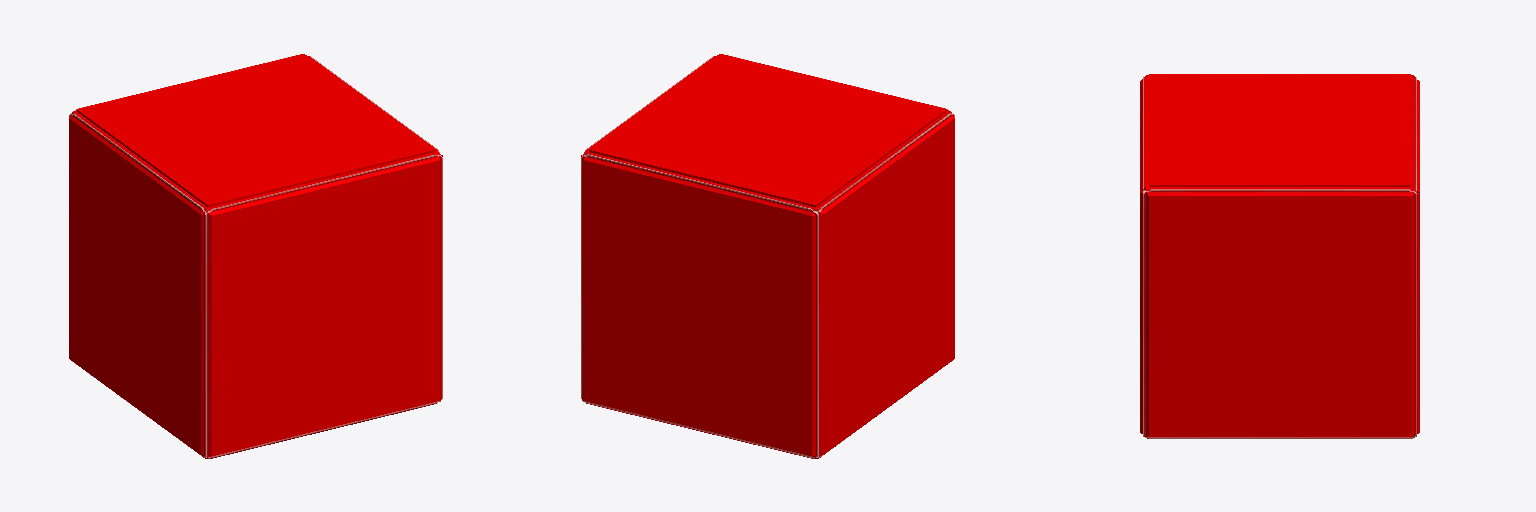
3 renders of one model, left to right at view 1: azimuth 30°, elevation 25°; view 2: azimuth 150°, elevation 25°; view 3: azimuth 270°, elevation 25°, orthographic.
Parts seen in each view (by area): view 1: 000_Box; view 2: 000_Box; view 3: 000_Box.
Part boxes in pixels (bbox=[...]): 000_Box: bbox=[69, 54, 442, 458]; 000_Box: bbox=[581, 54, 954, 458]; 000_Box: bbox=[1140, 74, 1419, 438].
Bounding box in the file's own units: 0.1 × 0.1 × 0.1.
1 materials, 1 textured.